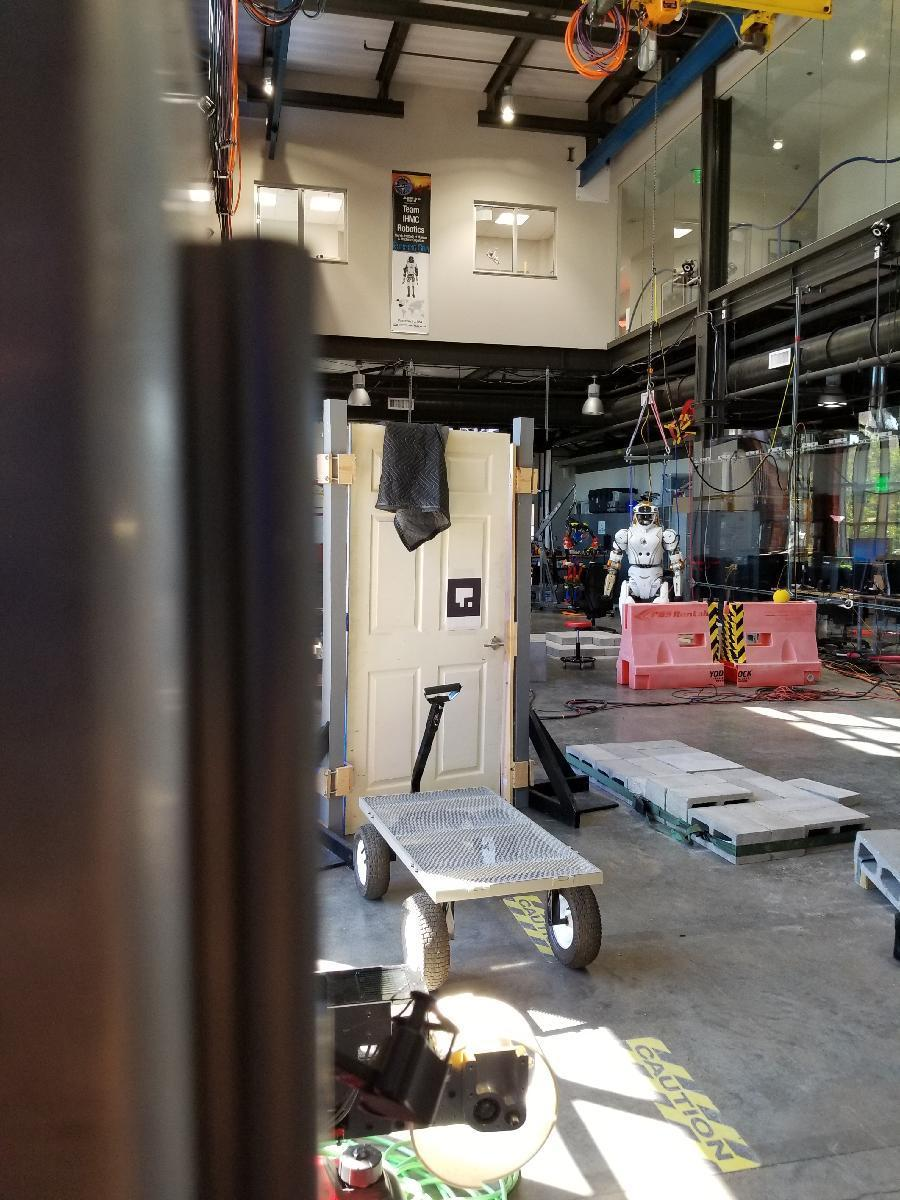door: (354, 418, 512, 879)
handle: (482, 635, 506, 652)
